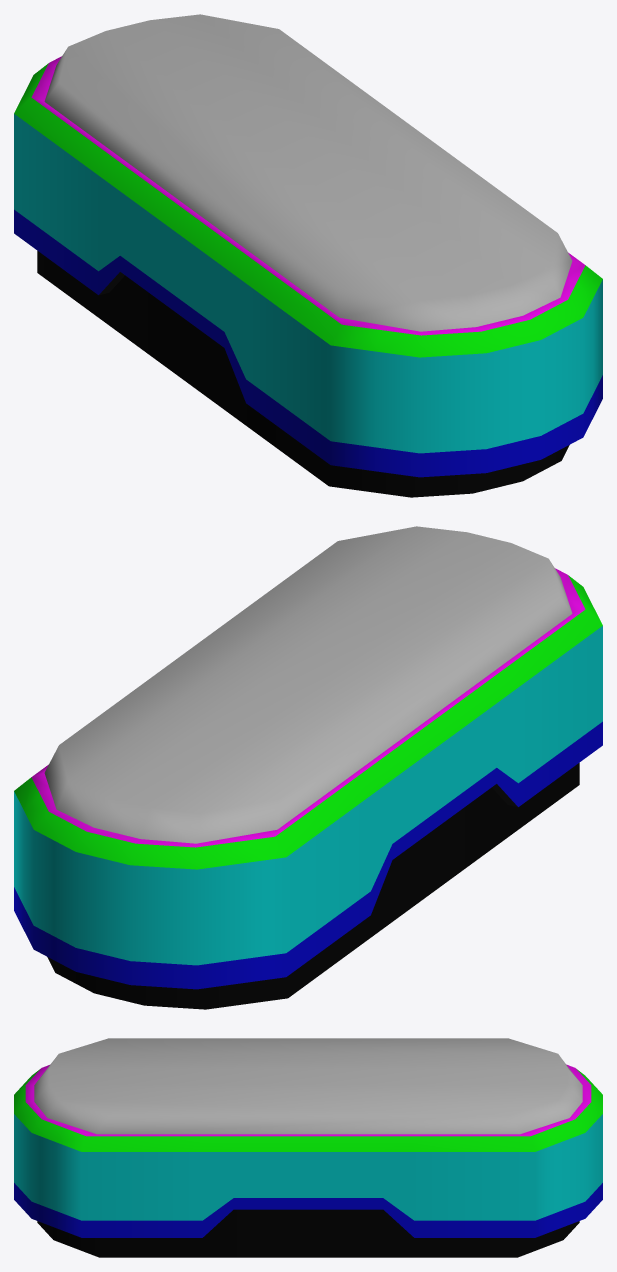
The model's file is SE_HydroTank_Env.fbx.
3 views of the same model, one above another, from view 1: azimuth 30°, elevation 25°; view 2: azimuth 150°, elevation 25°; view 3: azimuth 270°, elevation 25° (orthographic). The views are drawn at different scales.
Parts seen in each view (by area): view 1: SE_HydroBedMain, SE_HydroBedGlass; view 2: SE_HydroBedMain, SE_HydroBedGlass; view 3: SE_HydroBedMain, SE_HydroBedGlass.
Part boxes in pixels (<box>): SE_HydroBedMain: <box>14,56,602,497</box>; SE_HydroBedGlass: <box>44,14,572,331</box>; SE_HydroBedMain: <box>14,568,602,1009</box>; SE_HydroBedGlass: <box>44,526,572,843</box>; SE_HydroBedMain: <box>14,1064,602,1257</box>; SE_HydroBedGlass: <box>34,1038,582,1134</box>.
Size of the model in its own units: 174 by 116 by 454.
